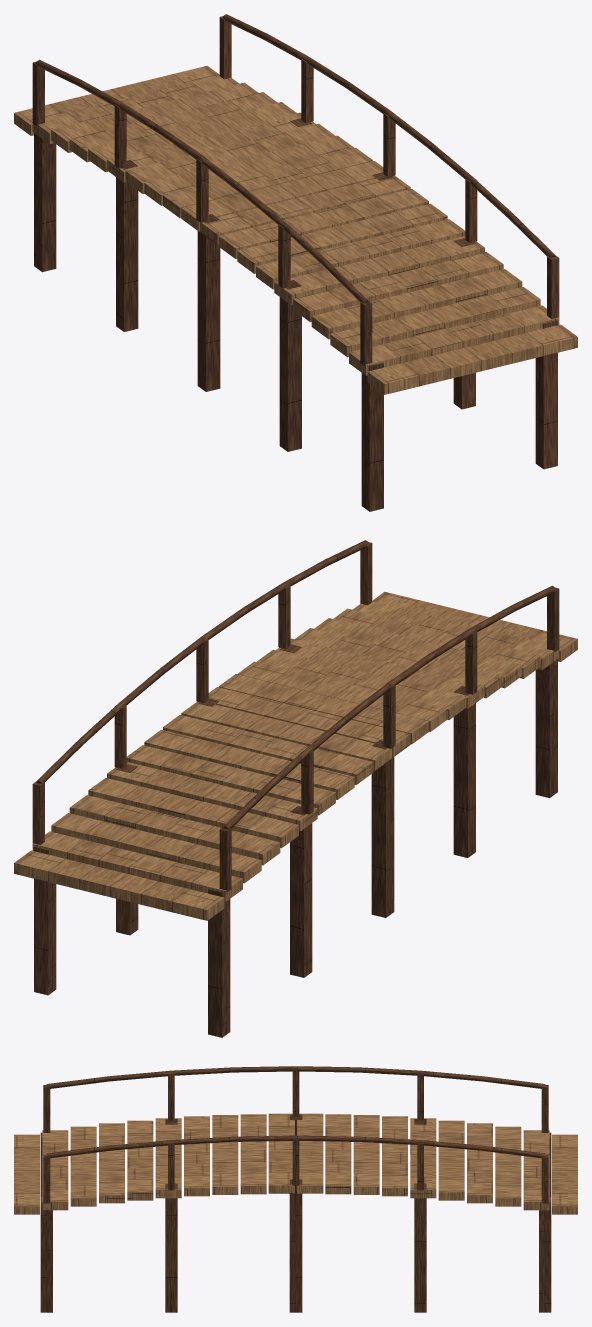
Rendered from bridge_plank.gltf.
3 renders of one model, top to bottom at view 1: azimuth 30°, elevation 25°; view 2: azimuth 150°, elevation 25°; view 3: azimuth 270°, elevation 25°, orthographic. The views are drawn at different scales.
Visible parts, largest first — view 1: Bridge; view 2: Bridge; view 3: Bridge.
Boxes of the visible parts, x1,y1,x2,y2 form: Bridge: (14, 14, 577, 511); Bridge: (14, 540, 577, 1037); Bridge: (14, 1066, 577, 1312).
Size of the model in its own units: 3.02 by 3.45 by 9.96.
2 materials, 2 textured.
